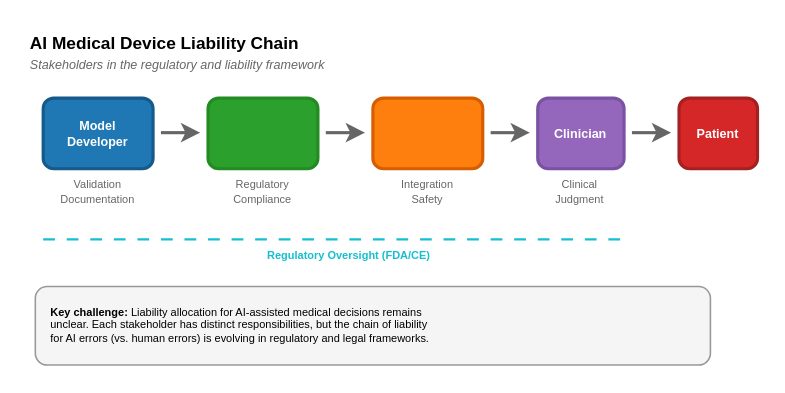
This 785x393 diagram has some shape labels left out. The centre of each missing label's shape, as x and y in pixels:
"Healthcare Provider" goes at point (427, 133).
"Software Vendor" goes at point (262, 133).
